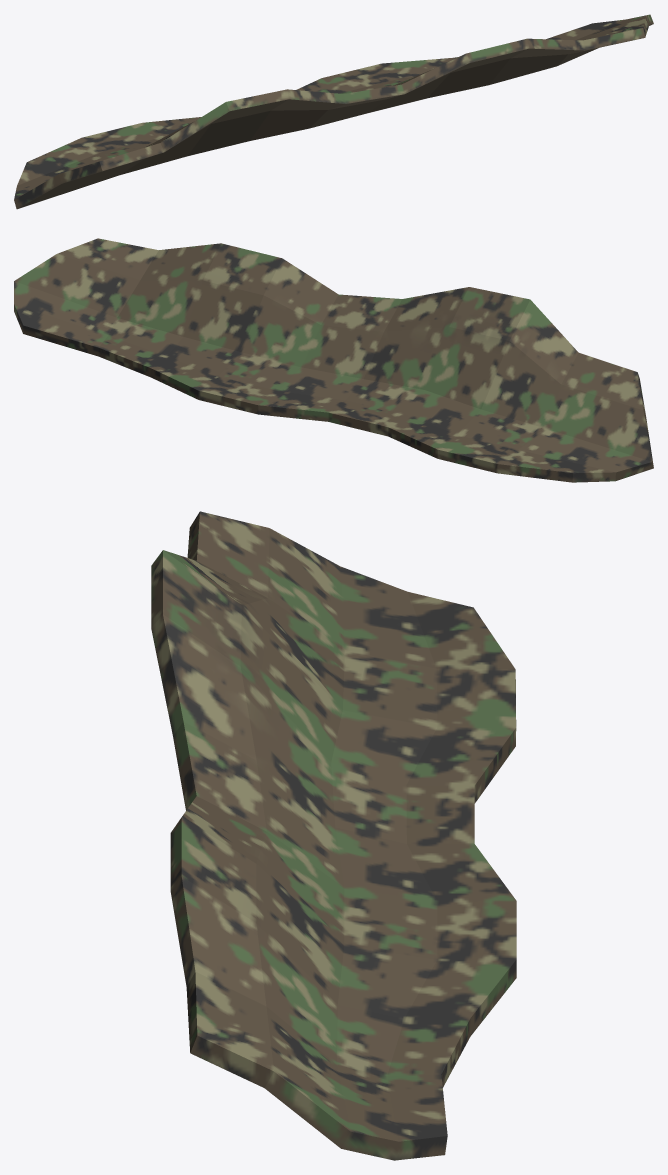
Rendered from SM_Trash_02.fbx.
3 views of the same model, one above another, from view 1: azimuth 30°, elevation 25°; view 2: azimuth 150°, elevation 25°; view 3: azimuth 270°, elevation 25° (orthographic). The views are drawn at different scales.
Visible parts, largest first — view 1: SM_Trash_02; view 2: SM_Trash_02; view 3: SM_Trash_02.
Part boxes in pixels (<box>): SM_Trash_02: <box>14,14,653,209</box>; SM_Trash_02: <box>14,238,653,482</box>; SM_Trash_02: <box>151,511,516,1160</box>.
Bounding box in the file's own units: 531 × 132 × 80.96.
